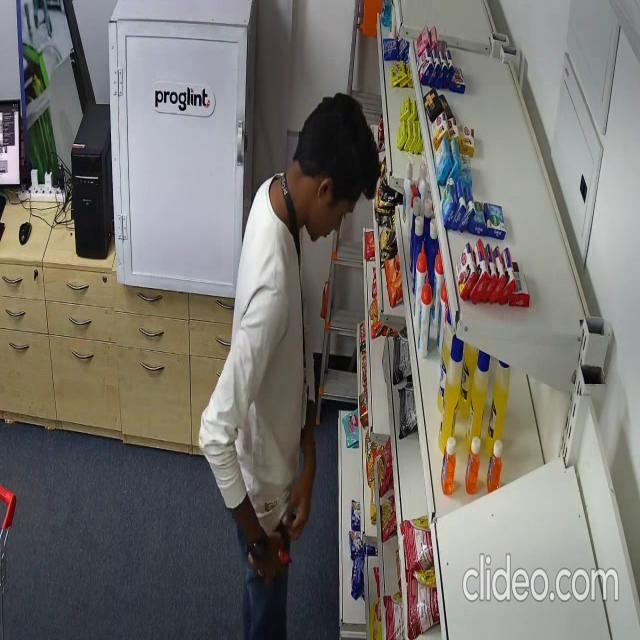Shoplifting: (197, 96, 381, 640)
